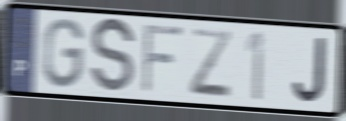1: (245, 29, 265, 104)
F: (140, 21, 186, 96)
G: (41, 16, 86, 91)
J: (291, 35, 328, 105)
S: (88, 15, 137, 98)
Z: (188, 25, 234, 101)
